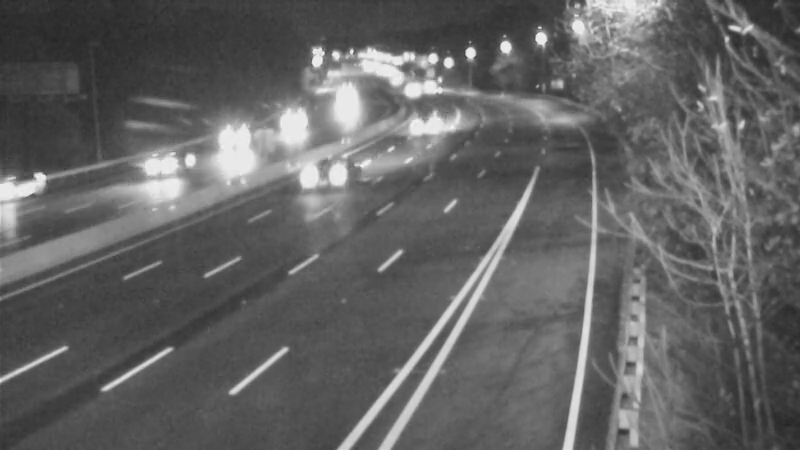vehicle: (279, 134, 359, 214), (125, 128, 205, 208), (1, 143, 69, 223), (396, 99, 446, 149), (212, 111, 262, 161), (263, 92, 313, 142), (319, 73, 369, 123)
